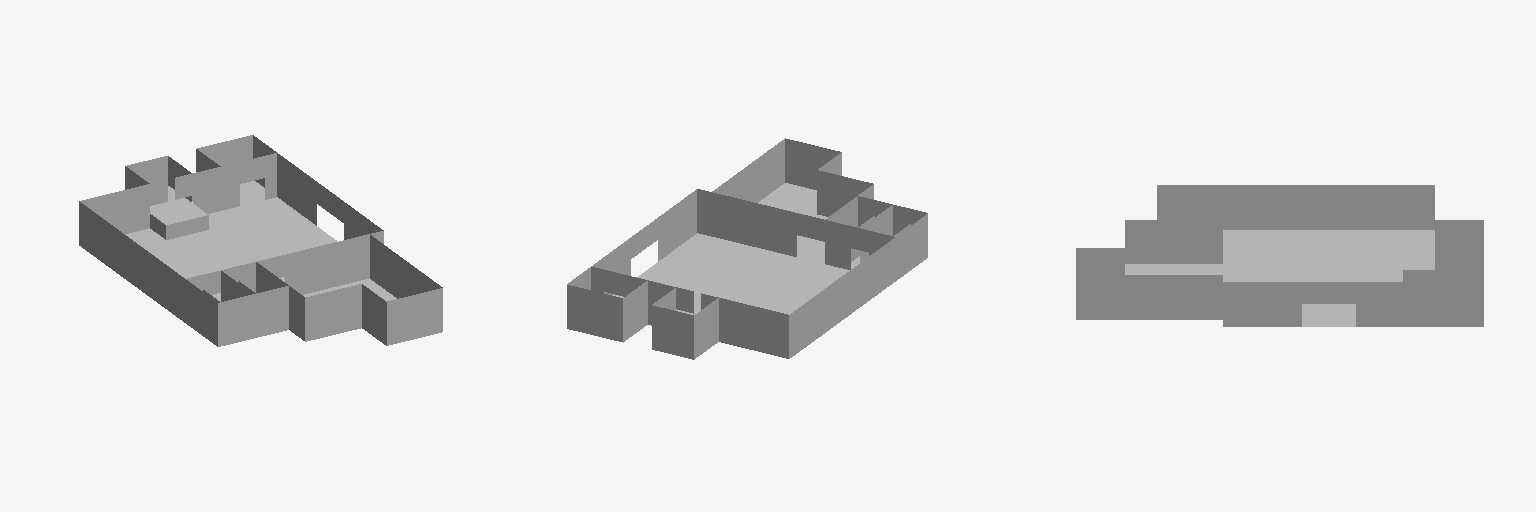
Rendered from restaurante.obj.
3 views of the same model, side by side, from view 1: azimuth 30°, elevation 25°; view 2: azimuth 150°, elevation 25°; view 3: azimuth 270°, elevation 25° (orthographic).
Visible parts, largest first — view 1: Plano.012, muro2, Plano, Plano.015, Plano.017, Plano.023, Plano.013, Plano.021, Plano.014, Cubo, Plano.016, Plano.011 (+3 smaller); view 2: Plano.012, Plano, muro2, Plano.015, Plano.023, Plano.003, Plano.007, Plano.021, Plano.013, Plano.016, Plano.014, Plano.017 (+7 smaller); view 3: Plano.012, Plano.015, Plano.023, Plano.014, Plano.011, Plano.002, Plano.022, Plano.004, Plano.020, Plano.016, Plano.019, Plano.009 (+3 smaller).
Part boxes in pixels (x1,y1,x2,y2): Plano.012: (125, 197, 337, 301); muro2: (80, 153, 276, 233); Plano: (186, 231, 383, 294); Plano.015: (79, 201, 184, 322); Plano.017: (218, 286, 288, 346); Plano.023: (277, 153, 383, 239); Plano.013: (305, 284, 361, 341); Plano.021: (387, 288, 442, 345); Plano.014: (370, 235, 418, 298); Cubo: (150, 186, 208, 239); Plano.016: (185, 279, 217, 346); Plano.011: (256, 262, 304, 340); Plano.012: (612, 233, 849, 314); Plano: (697, 189, 894, 269); muro2: (591, 267, 788, 358); Plano.015: (789, 237, 895, 358); Plano.023: (591, 189, 696, 294); Plano.003: (567, 285, 622, 341); Plano.007: (652, 305, 693, 359); Plano.021: (785, 138, 840, 189); Plano.013: (817, 170, 872, 216); Plano.016: (896, 214, 927, 280); Plano.014: (712, 156, 760, 202); Plano.017: (858, 196, 927, 235); Plano.012: (1223, 230, 1434, 326); Plano.015: (1223, 185, 1434, 229); Plano.023: (1223, 282, 1434, 326); Plano.014: (1125, 275, 1222, 319); Plano.011: (1125, 220, 1222, 263); Plano.002: (1435, 282, 1483, 326); Plano.022: (1076, 275, 1124, 319); Plano.004: (1435, 255, 1483, 281); Plano.020: (1076, 248, 1124, 274); Plano.016: (1157, 185, 1222, 202); Plano.019: (1157, 203, 1222, 219); Plano.009: (1125, 264, 1222, 274).
Bounding box in the file's own units: 70 × 15 × 125.